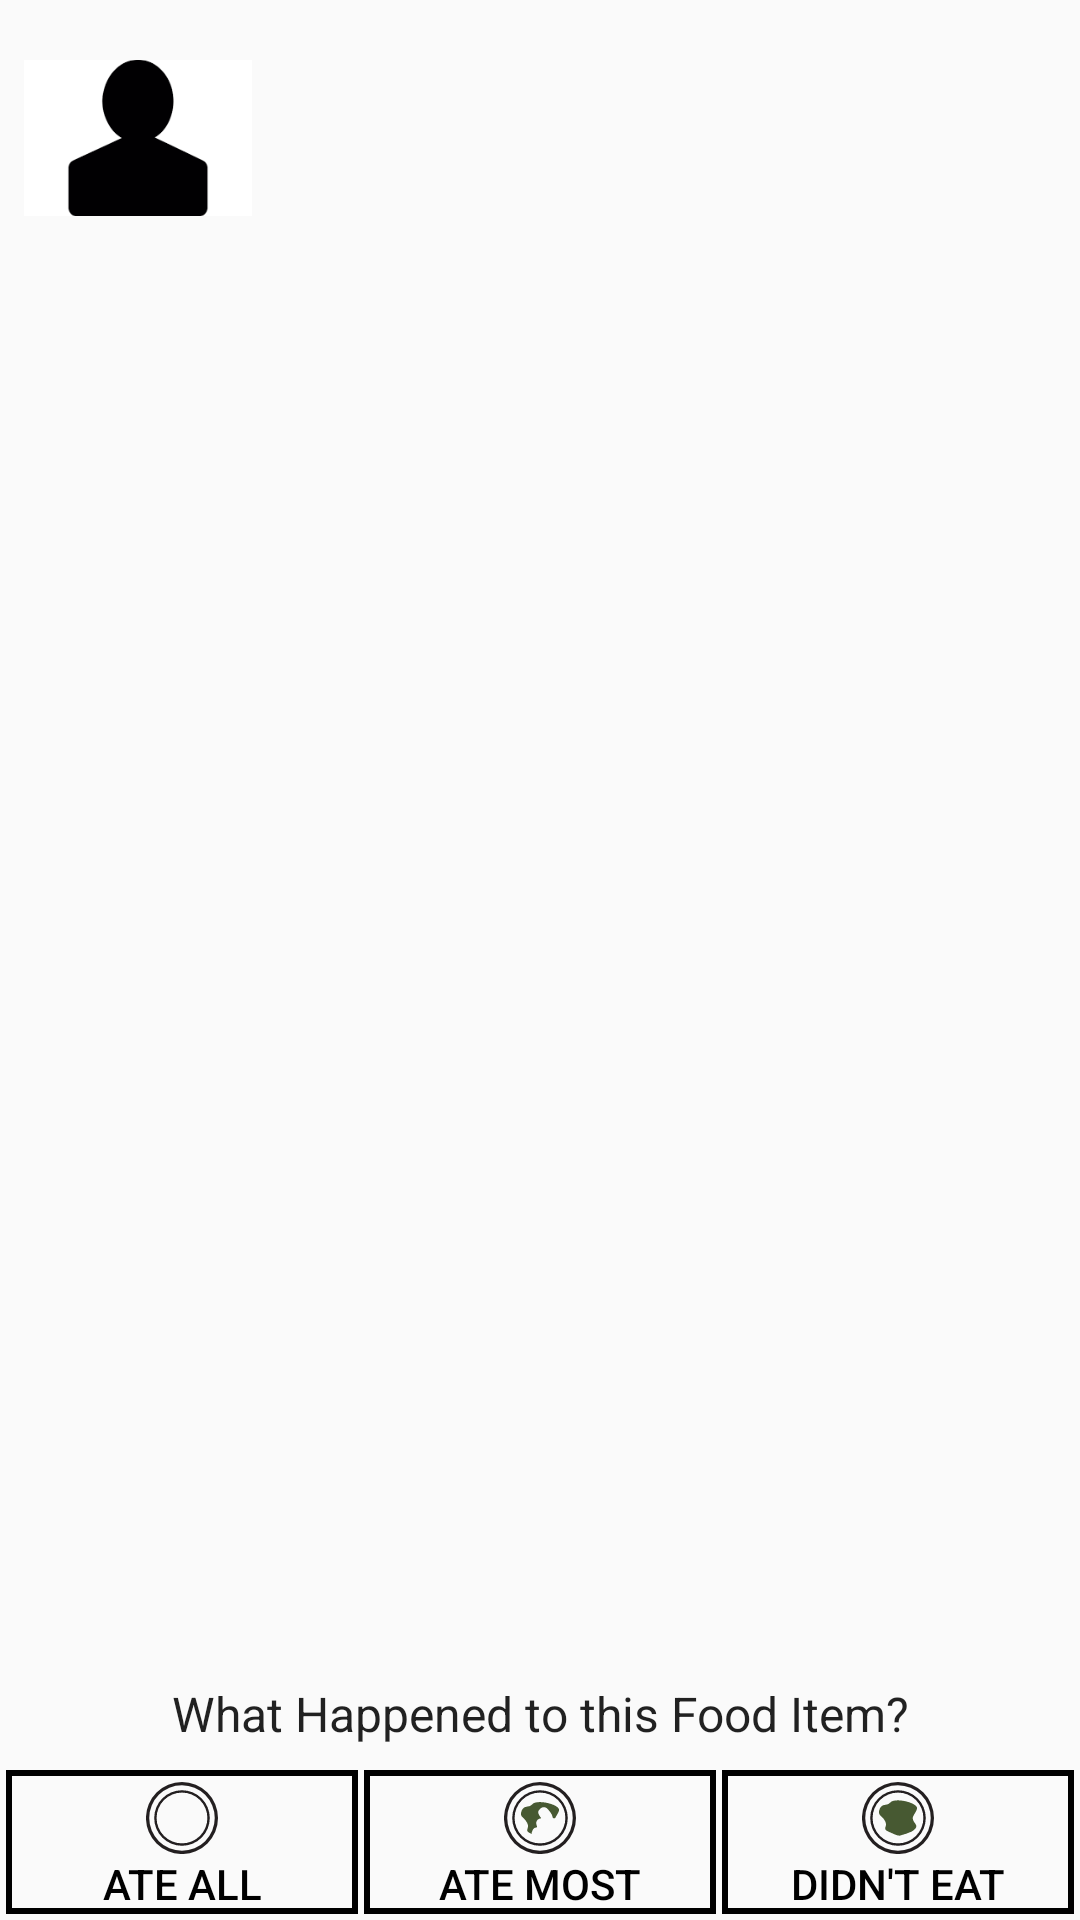

Named icons in this screenshot (1080w x 1920h) and their centers, (x=x, y=y):
person: (x=138, y=138)
